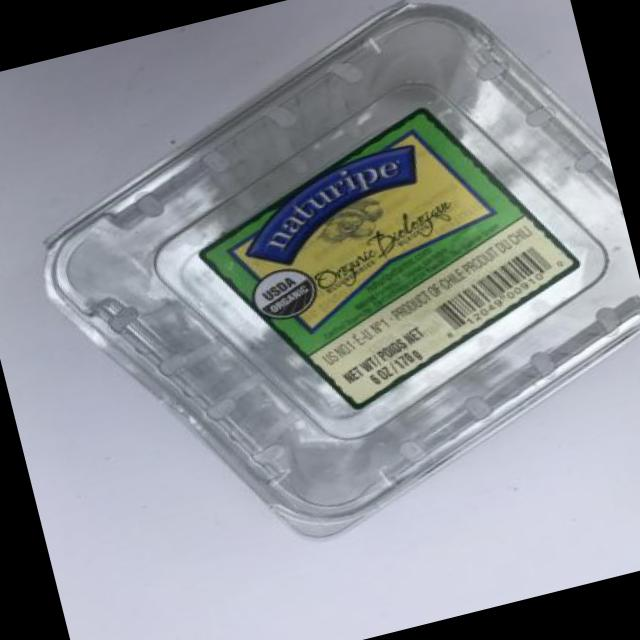Clamshell: (0, 0, 640, 607)
Label: (160, 64, 616, 447)
